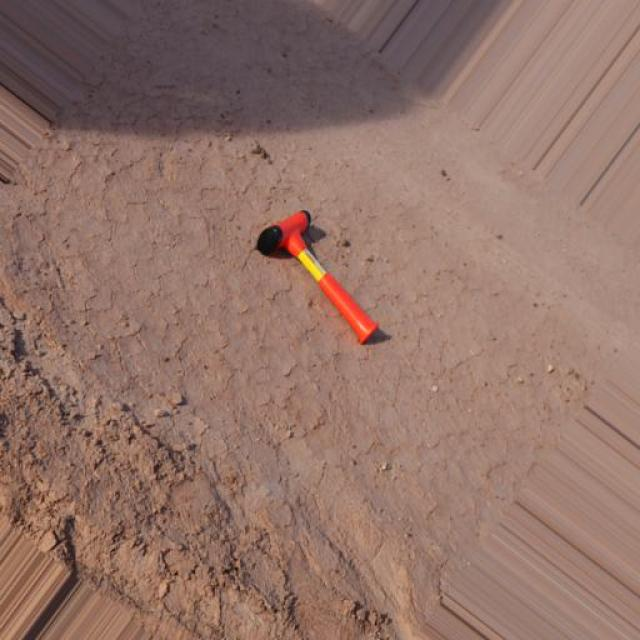mallet: (255, 207, 379, 345)
